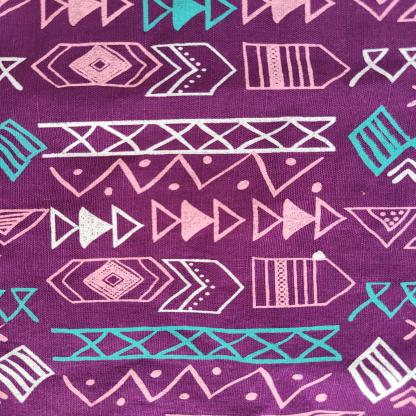spot: (357, 188, 371, 198)
